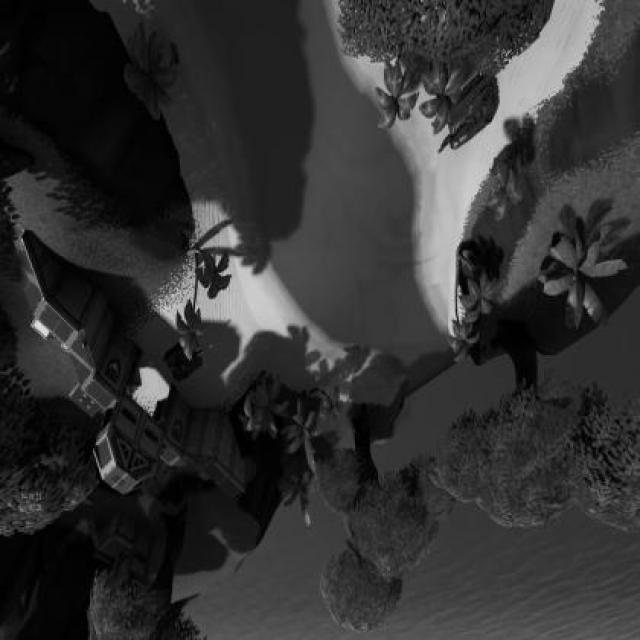tank: (162, 338, 214, 383)
